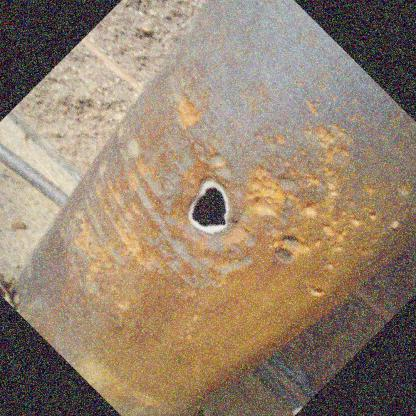burst: (182, 178, 258, 253)
